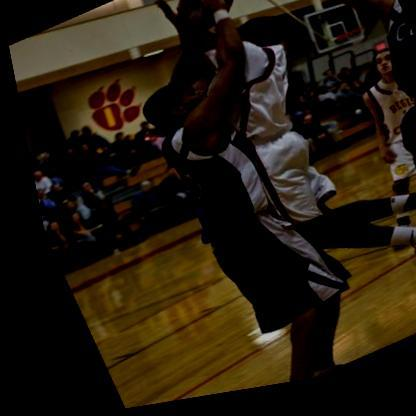basketball: (172, 0, 242, 40)
